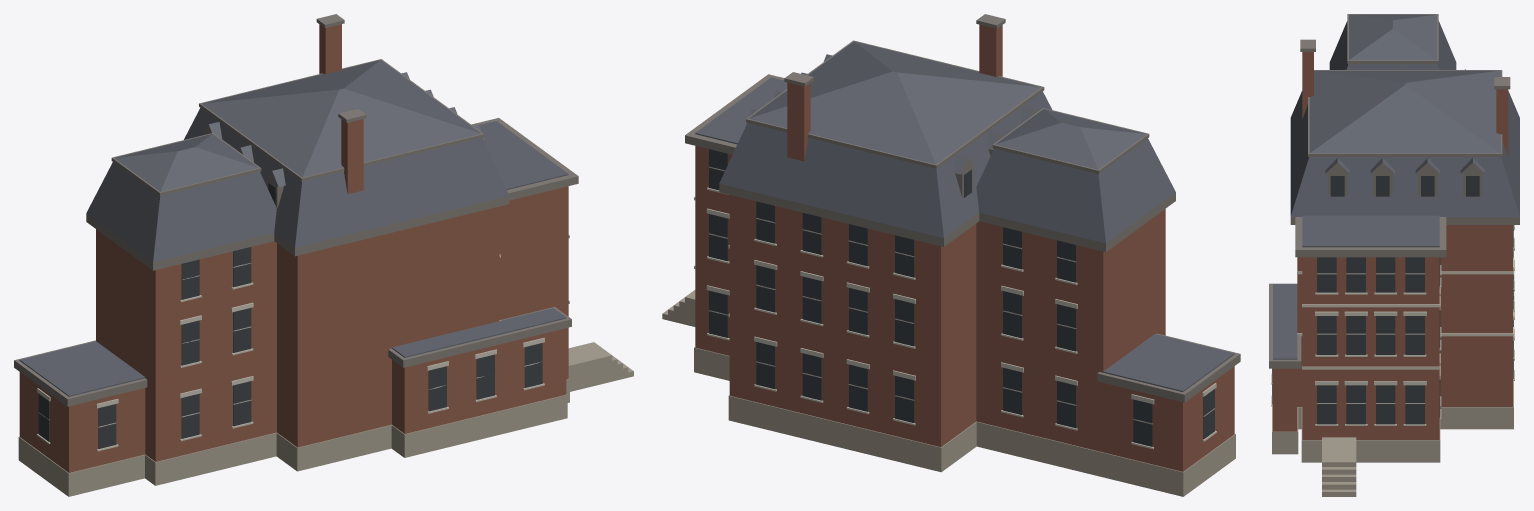
Rendered from wheeler_kohn_house_2018_calumet__draft_1904.glb.
3 views of the same model, side by side, from view 1: azimuth 30°, elevation 25°; view 2: azimuth 150°, elevation 25°; view 3: azimuth 270°, elevation 25° (orthographic). The views are drawn at different scales.
Visible parts, largest first — view 1: wheeler_kohn_house_2018_calumet__draft_1904; view 2: wheeler_kohn_house_2018_calumet__draft_1904; view 3: wheeler_kohn_house_2018_calumet__draft_1904.
Boxes of the visible parts, left/top/right/bottom form: wheeler_kohn_house_2018_calumet__draft_1904: left=14, top=14, right=633, bottom=496; wheeler_kohn_house_2018_calumet__draft_1904: left=662, top=14, right=1240, bottom=496; wheeler_kohn_house_2018_calumet__draft_1904: left=1269, top=14, right=1519, bottom=496.
Size of the model in its own units: 30.65 by 17.98 by 12.8.
